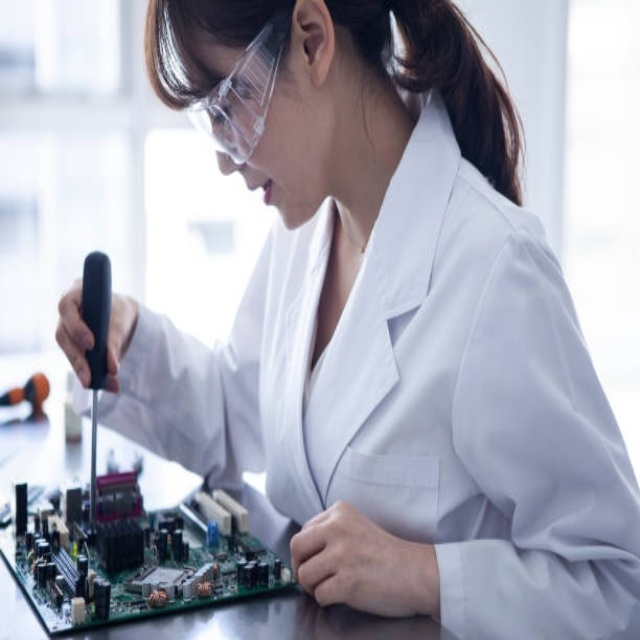Gafas: (188, 9, 287, 169)
Sin_guantes: (284, 496, 426, 621), (55, 274, 127, 394)
Sin_mascara: (236, 166, 301, 232)
